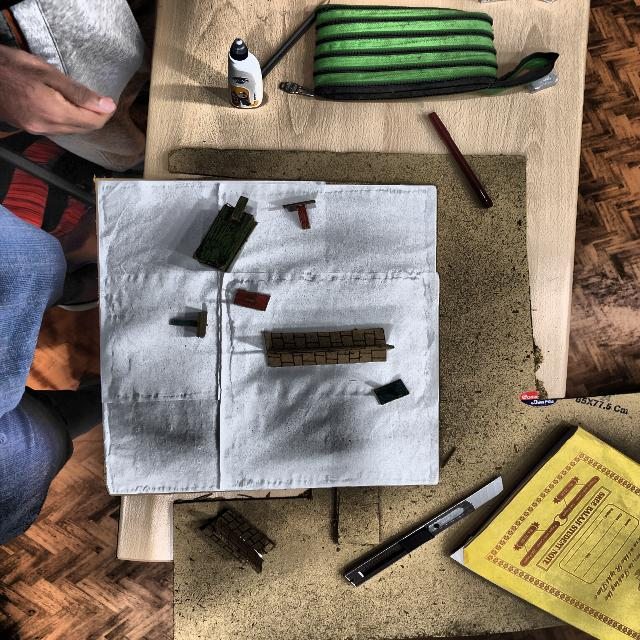Dead soldier -enemy-: (281, 198, 319, 232)
Dead soldier -frd-: (168, 309, 212, 340)
Tank: (194, 197, 259, 275)
Wall: (262, 327, 390, 369)
enemy: (233, 290, 273, 313)
friend: (372, 381, 414, 407)
